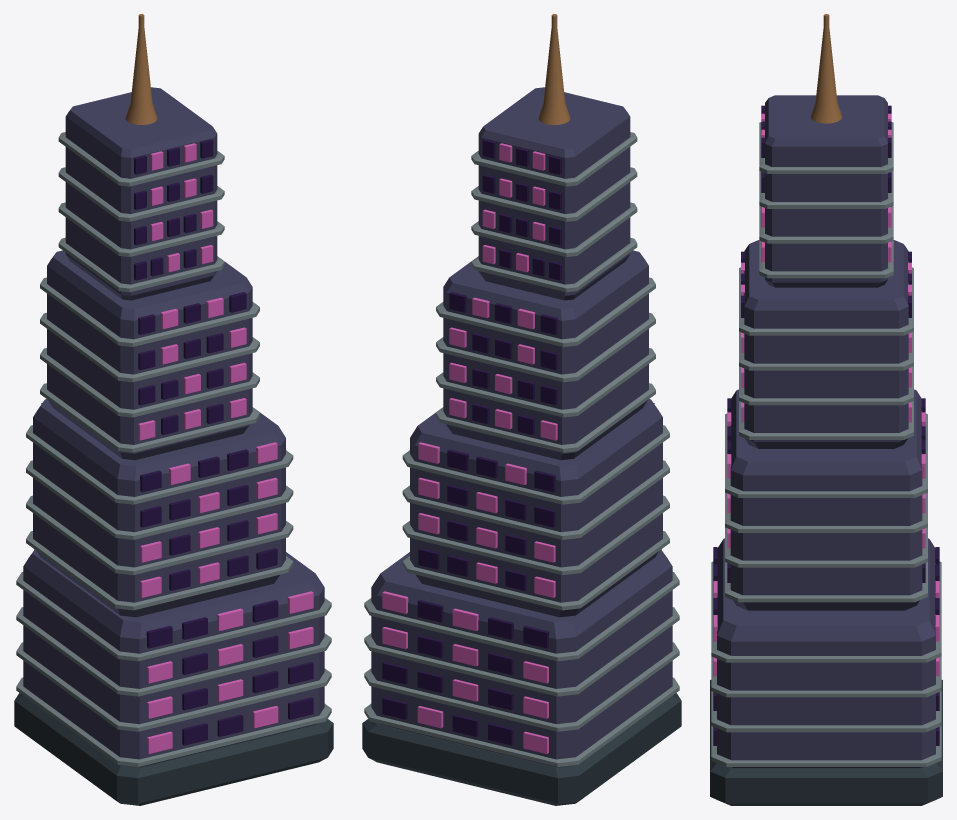
The model's file is vista_vespera.glb.
3 views of the same model, side by side, from view 1: azimuth 30°, elevation 25°; view 2: azimuth 150°, elevation 25°; view 3: azimuth 270°, elevation 25° (orthographic).
Parts seen in each view (by area): view 1: vista_vespera; view 2: vista_vespera; view 3: vista_vespera.
Boxes of the visible parts, left/top/right/bottom form: vista_vespera: left=14, top=14, right=333, bottom=805; vista_vespera: left=362, top=14, right=681, bottom=805; vista_vespera: left=710, top=14, right=942, bottom=805.
Size of the model in its own units: 18 by 58.5 by 17.
